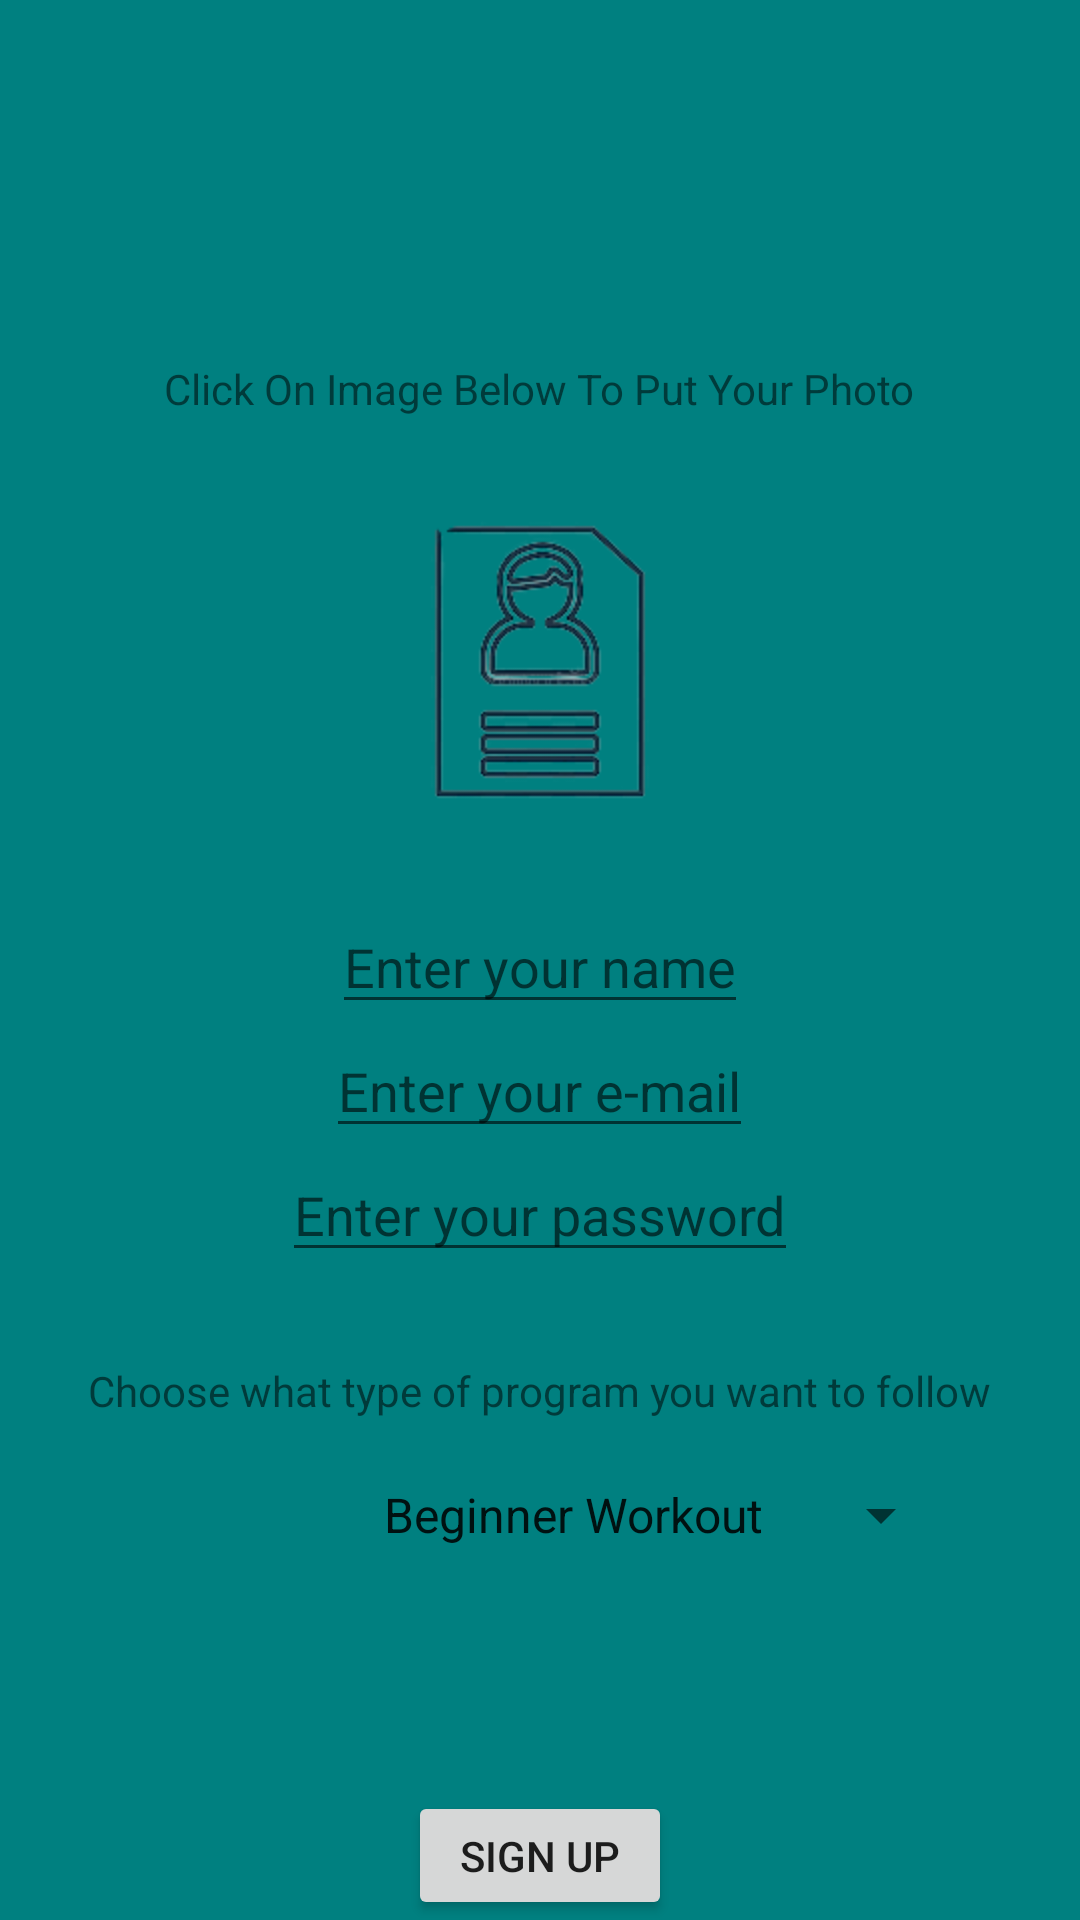

Screen size 1080px x 1920px. Icon name, then its center in pixels as point (x, y):
signup: point (540, 662)
